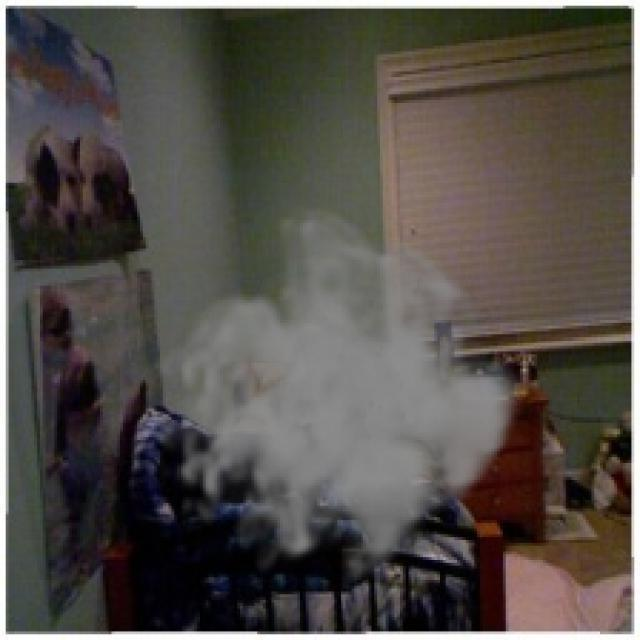Smoke: (154, 200, 526, 597)
